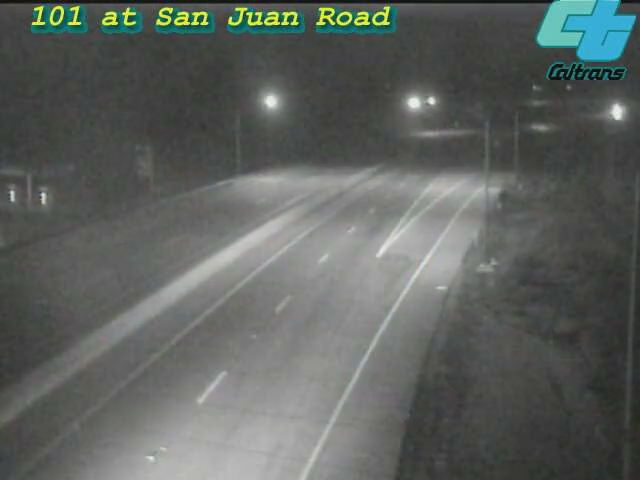vehicle: (514, 101, 564, 151), (593, 87, 640, 137)
